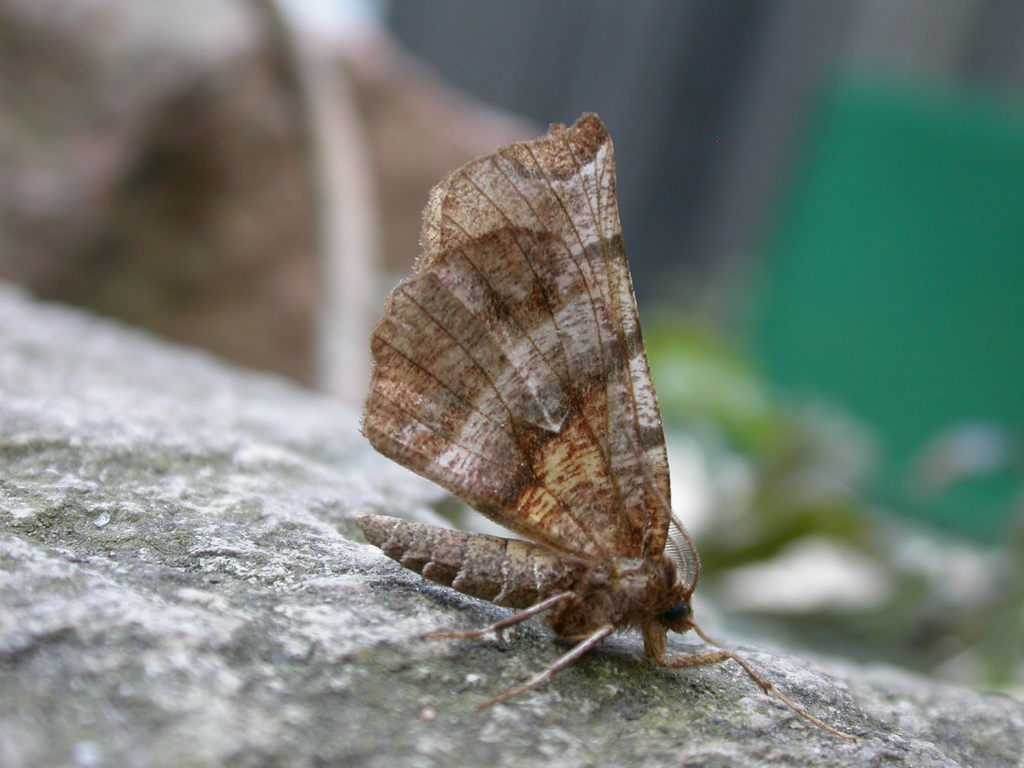Butterfly: (338, 85, 841, 727)
